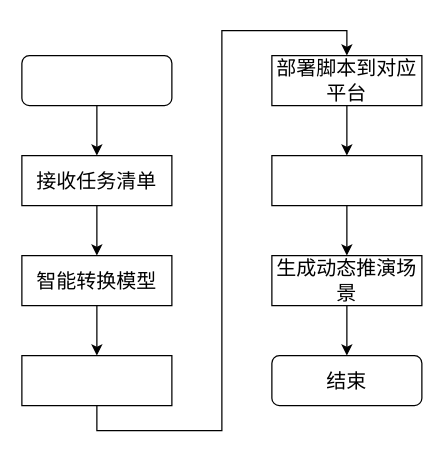
This 444x463 diagram has some shape labels left out. The shapes that lost their labels are listed below. From the top down, each one's box as (x1, y1, x2, y2) in pixels, then its label:
(21, 54, 172, 106): 开始
(271, 154, 422, 206): 仿真引擎加载并运行脚本
(21, 354, 172, 406): 生成目标仿真平台想定脚本
